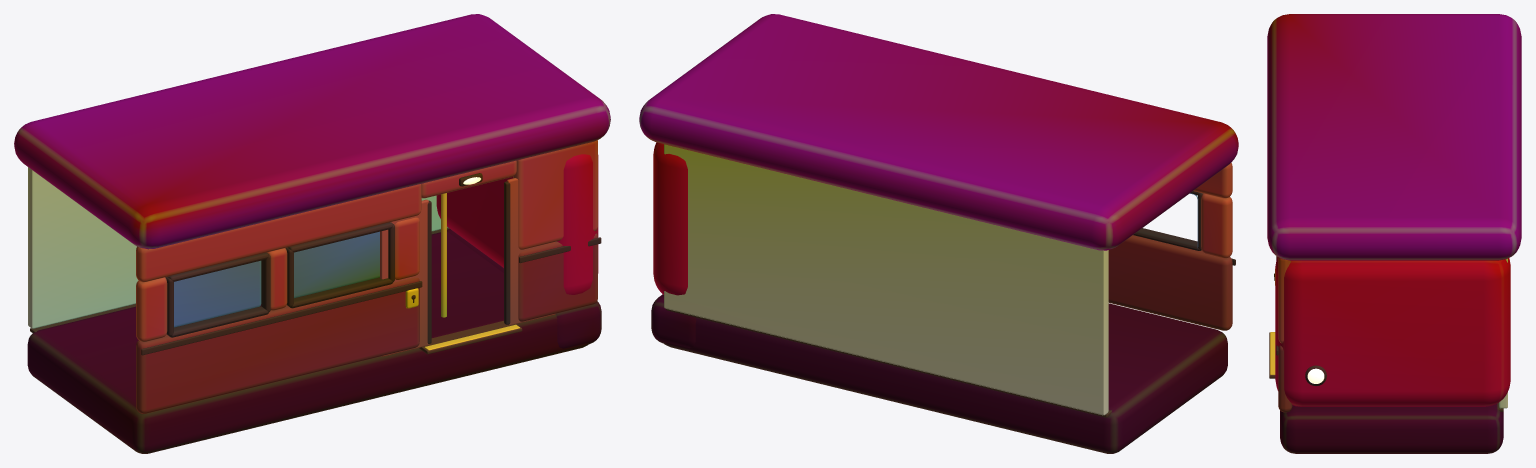
File: WagonCorner_Blockout.glb
3 views of the same model, side by side, from view 1: azimuth 30°, elevation 25°; view 2: azimuth 150°, elevation 25°; view 3: azimuth 270°, elevation 25° (orthographic). The views are drawn at different scales.
Parts seen in each view (by area): view 1: Shell, Windows, Interior, DoorLeaf_L, DoorLeaf_R, DoorSill, HandPole; view 2: Shell, Interior, Windows; view 3: Shell, HeadLight, DoorSill.
Boxes of the visible parts, box(x1,y1,x2,y2) form: Shell: box(14, 14, 610, 453); Windows: box(165, 222, 394, 337); Interior: box(28, 167, 449, 332); DoorLeaf_L: box(380, 199, 431, 356); DoorLeaf_R: box(504, 178, 555, 325); DoorSill: box(419, 321, 522, 354); HandPole: box(441, 193, 446, 317); Shell: box(639, 14, 1238, 453); Interior: box(664, 144, 1111, 417); Windows: box(1133, 191, 1202, 250); Shell: box(1267, 14, 1521, 453); HeadLight: box(1305, 365, 1326, 385); DoorSill: box(1269, 332, 1275, 378).
Bounding box in the file's own units: 5.79 × 2.89 × 2.82.
